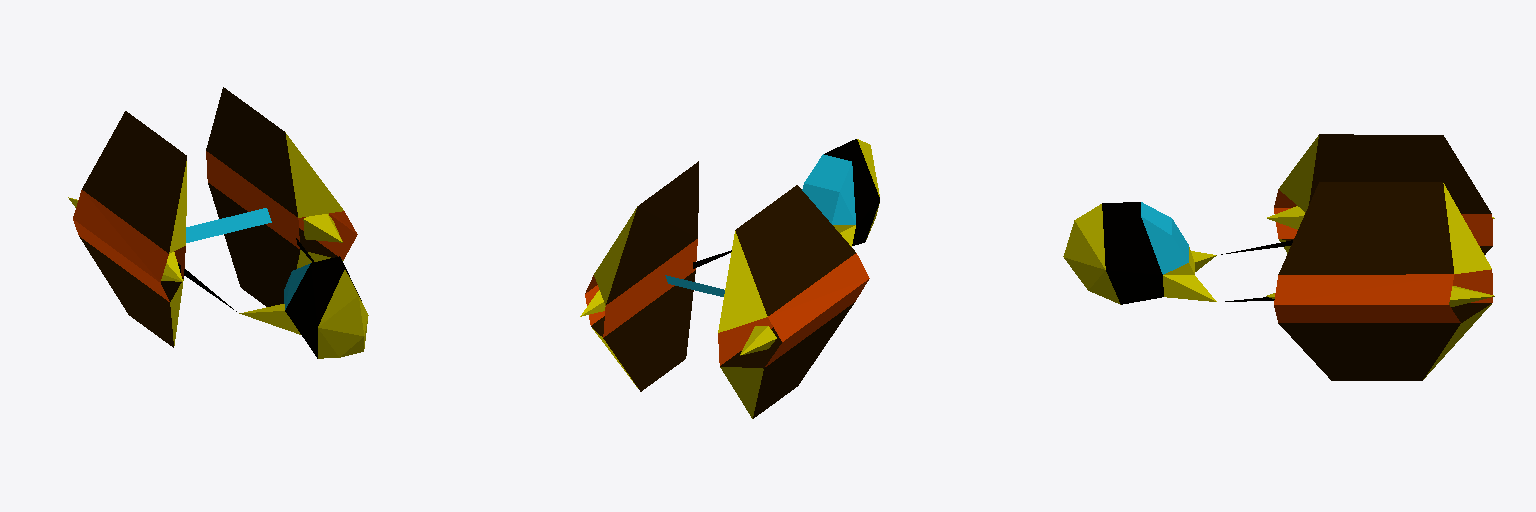
Rendered from Pod5.obj.
The picture shows the model from 3 angles: view 1: azimuth 30°, elevation 25°; view 2: azimuth 150°, elevation 25°; view 3: azimuth 270°, elevation 25°; orthographic projection.
Parts seen in each view (by area): view 1: Engine_R_Cube.001_Engine, Engine_R_Cube.001_Highlight, Engine_R_Cube.001_BaseColor, Body_Cube_BaseColor, Body_Cube_Complement, Body_Cube_Glass; view 2: Engine_R_Cube.001_Engine, Engine_R_Cube.001_Highlight, Engine_R_Cube.001_BaseColor, Body_Cube_Glass, Body_Cube_Complement, Body_Cube_BaseColor; view 3: Engine_R_Cube.001_Engine, Engine_R_Cube.001_Highlight, Body_Cube_Complement, Engine_R_Cube.001_BaseColor, Body_Cube_BaseColor, Body_Cube_Glass.
Boxes of the visible parts, <box> form: Engine_R_Cube.001_Engine: <box>79,87,337,347</box>; Engine_R_Cube.001_Highlight: <box>73,151,357,301</box>; Engine_R_Cube.001_BaseColor: <box>68,132,343,345</box>; Body_Cube_BaseColor: <box>239,270,368,358</box>; Body_Cube_Complement: <box>178,238,361,358</box>; Body_Cube_Glass: <box>186,208,310,309</box>; Engine_R_Cube.001_Engine: <box>591,161,855,418</box>; Engine_R_Cube.001_Highlight: <box>585,239,869,366</box>; Engine_R_Cube.001_BaseColor: <box>580,206,776,418</box>; Body_Cube_Glass: <box>665,154,855,296</box>; Body_Cube_Complement: <box>693,139,879,268</box>; Body_Cube_BaseColor: <box>833,139,879,246</box>; Engine_R_Cube.001_Engine: <box>1278,134,1492,380</box>; Engine_R_Cube.001_Highlight: <box>1274,189,1492,322</box>; Body_Cube_Complement: <box>1102,202,1292,304</box>; Engine_R_Cube.001_BaseColor: <box>1266,135,1494,379</box>; Body_Cube_BaseColor: <box>1063,204,1216,304</box>; Body_Cube_Glass: <box>1141,202,1188,274</box>.
Size of the model in its own units: 11.01 by 10.4 by 20.93.